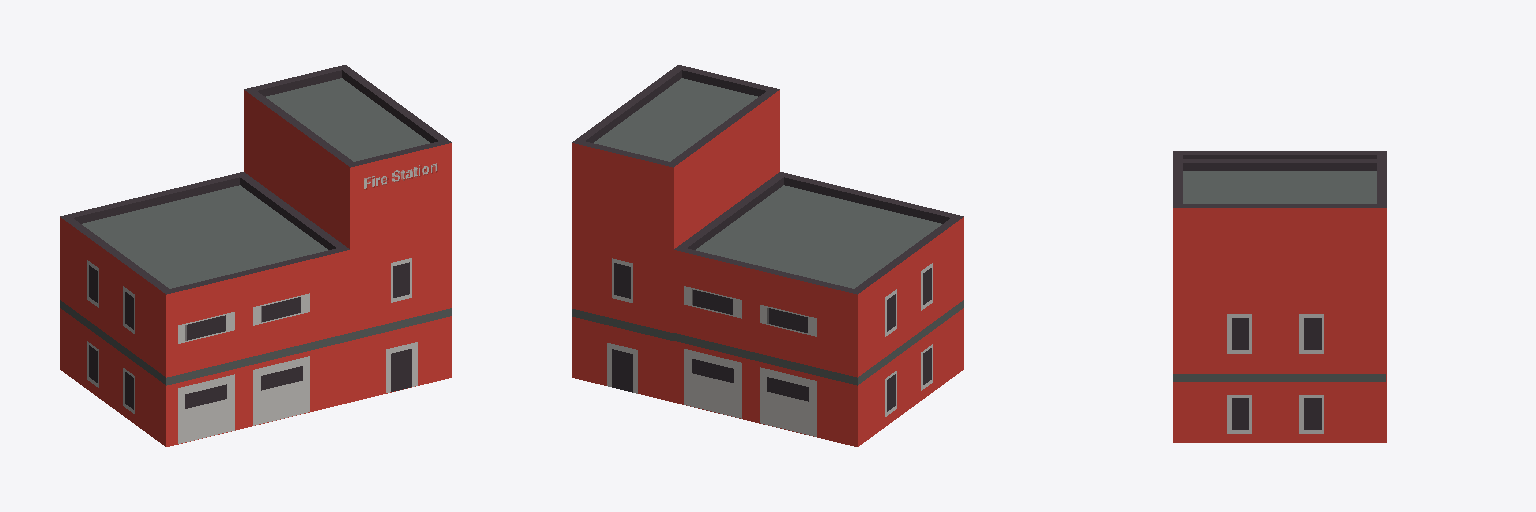
3 renders of one model, left to right at view 1: azimuth 30°, elevation 25°; view 2: azimuth 150°, elevation 25°; view 3: azimuth 270°, elevation 25°, orthographic.
Parts seen in each view (by area): view 1: service_firestation_Cube.002; view 2: service_firestation_Cube.002; view 3: service_firestation_Cube.002.
Boxes of the visible parts, x1,y1,x2,y2 form: service_firestation_Cube.002: [60, 65, 451, 446]; service_firestation_Cube.002: [572, 65, 963, 446]; service_firestation_Cube.002: [1173, 151, 1386, 442].
Bounding box in the file's own units: 1.8 × 1.41 × 1.16.
1 materials, 1 textured.